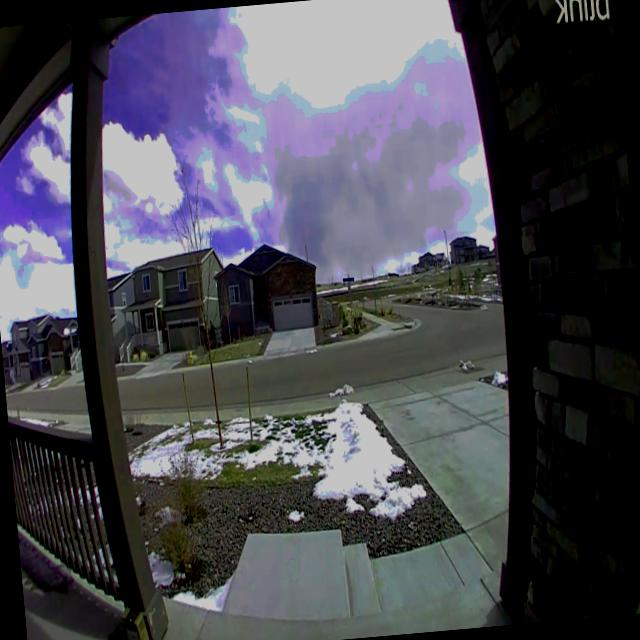Box: (118, 600, 156, 640)
